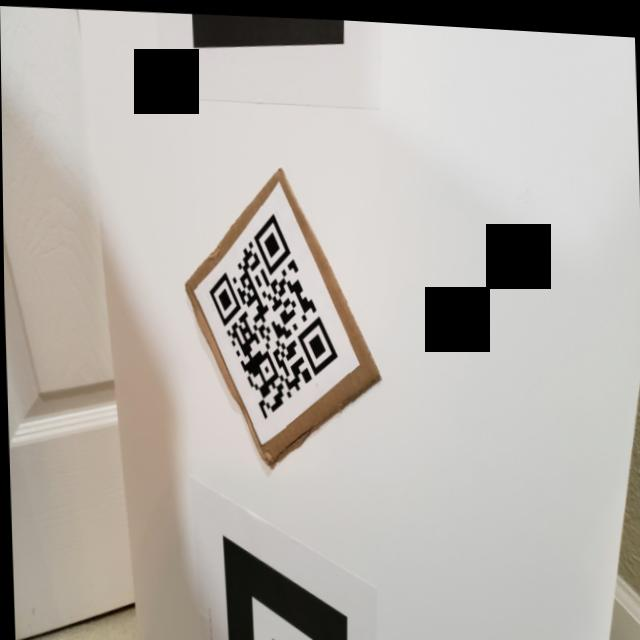QR_CODE: (194, 198, 351, 428)
